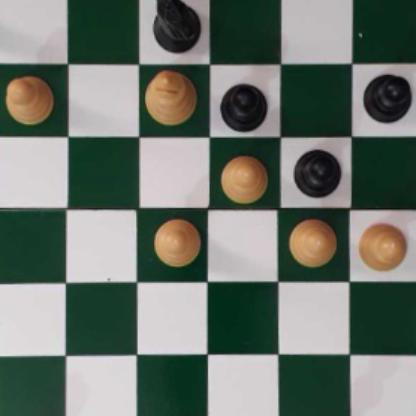black-knight: (150, 0, 201, 49)
black-pawn: (218, 76, 269, 130), (362, 70, 411, 123), (293, 145, 341, 199)
white-bishop: (147, 67, 195, 126)
white-pawn: (287, 214, 337, 268), (358, 218, 408, 272), (5, 72, 55, 126), (217, 153, 271, 202), (151, 218, 201, 266)
